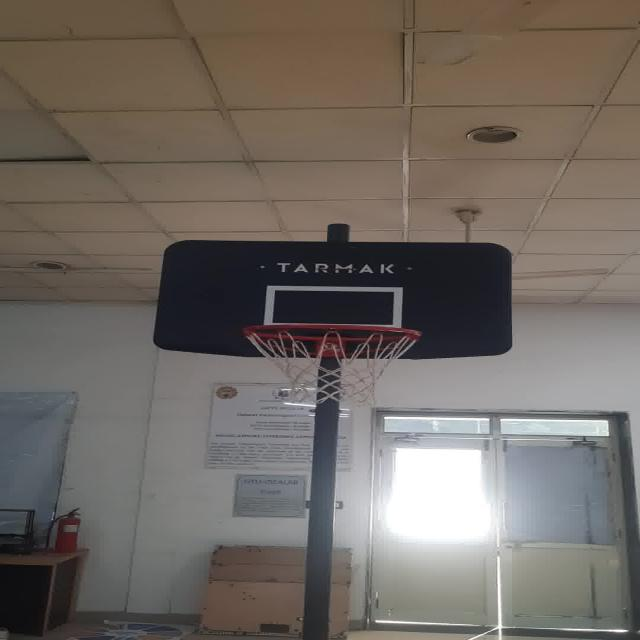objects: (222, 318, 426, 405), (269, 289, 403, 323)
